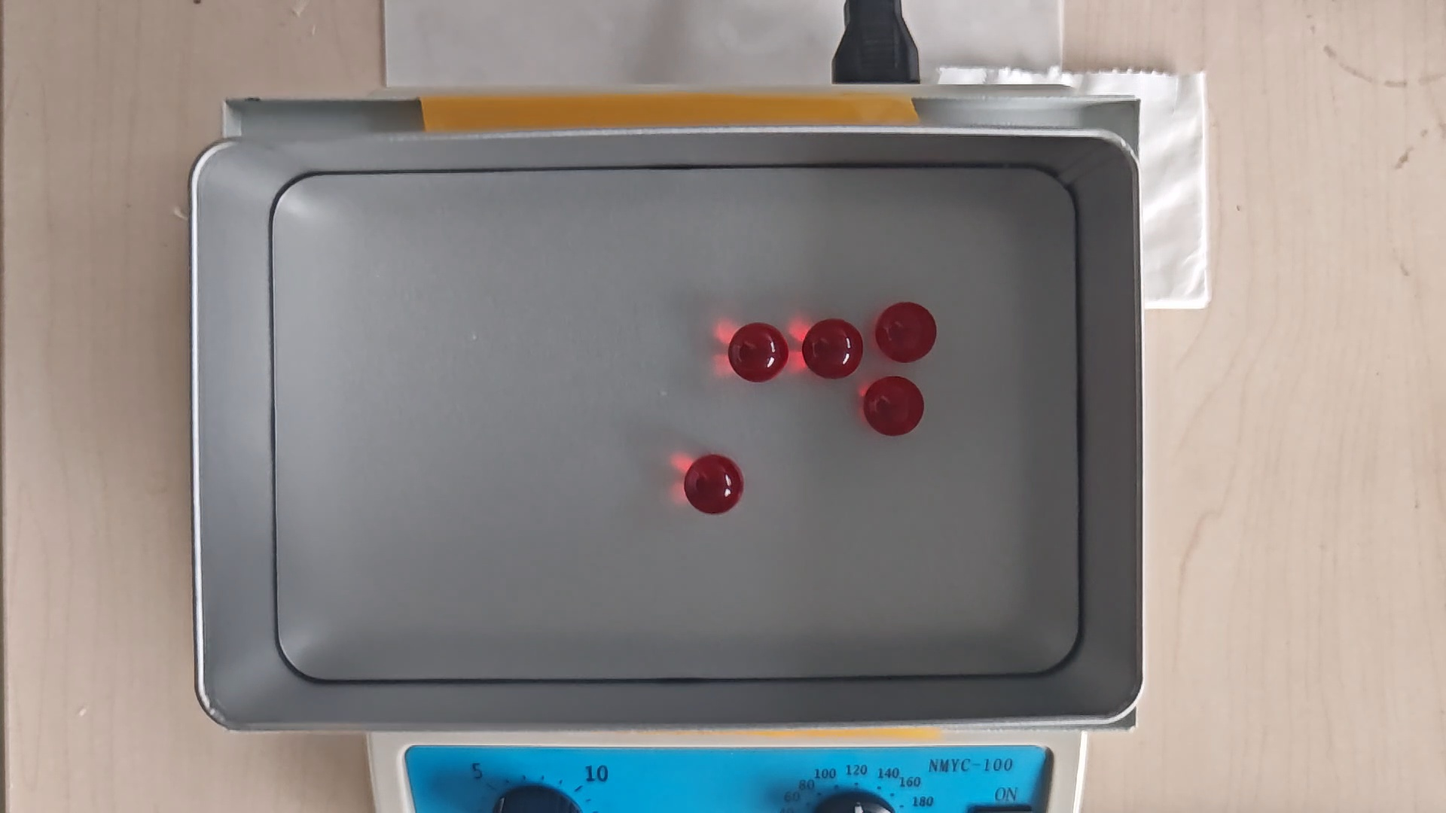ball: (876, 300, 938, 364), (804, 318, 864, 380), (864, 375, 924, 437), (728, 322, 788, 382), (687, 455, 741, 516)
container: (273, 166, 1079, 680)
